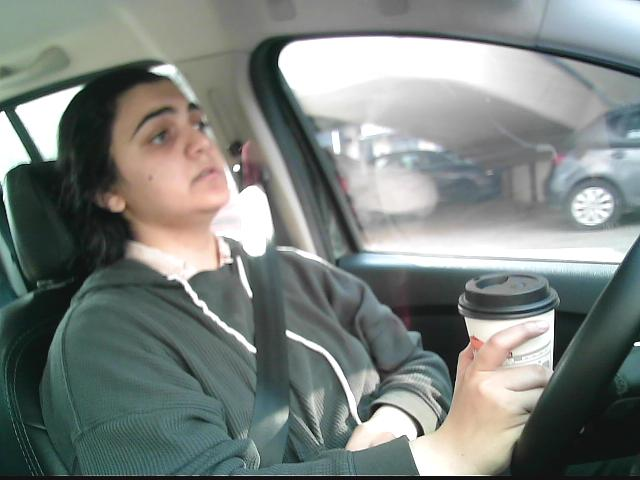Drinking: (454, 270, 565, 416)
